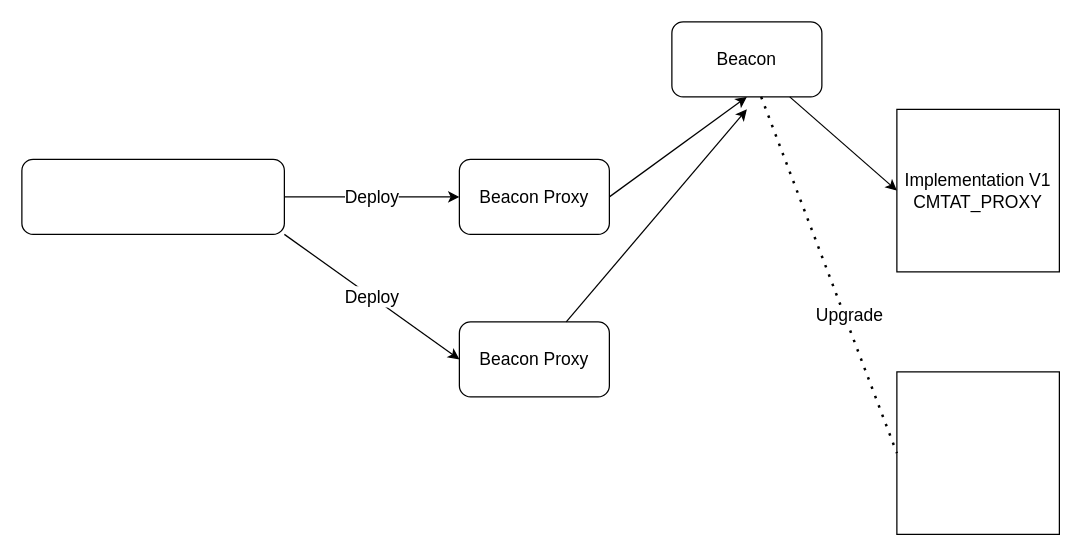
Image size: 1081x556. Some labels were removed from this diagram. The centre of each missing label's shape, as x and y in pixels:
"Factory CMTAT_BEACON_FACTORY" belongs at [152,196].
"Implementation V2" belongs at [977,452].
